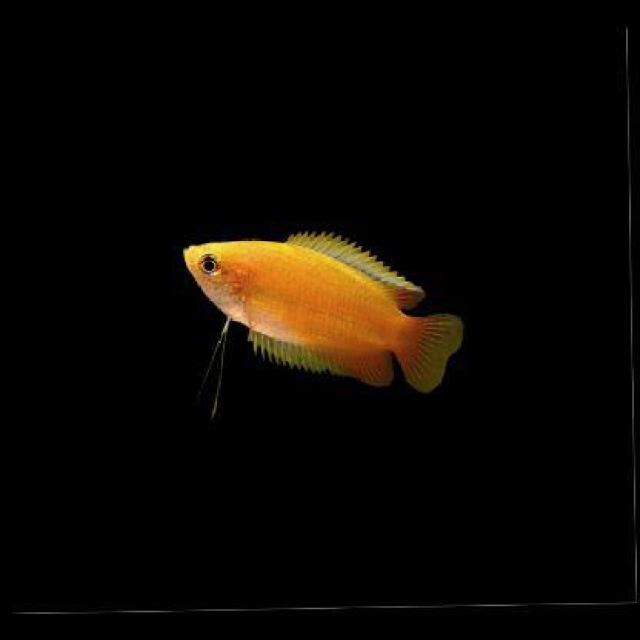Gourami: (176, 227, 467, 404)
